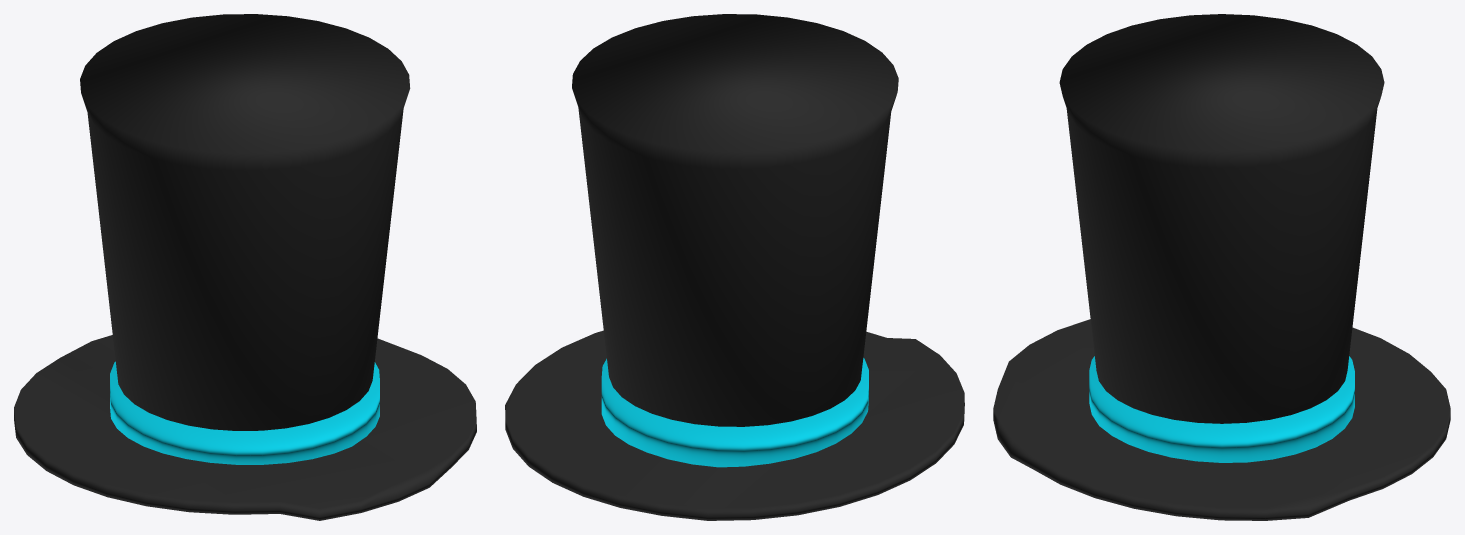
File: tophat3.fbx
3 renders of one model, left to right at view 1: azimuth 30°, elevation 25°; view 2: azimuth 150°, elevation 25°; view 3: azimuth 270°, elevation 25°, orthographic.
Parts seen in each view (by area): view 1: Cylinder.001, Cylinder, Cylinder.002; view 2: Cylinder.001, Cylinder, Cylinder.002; view 3: Cylinder.001, Cylinder, Cylinder.002.
Boxes of the visible parts, x1=… form: Cylinder.001: x1=80, y1=14, x2=410, y2=430; Cylinder: x1=14, y1=335, x2=476, y2=520; Cylinder.002: x1=110, y1=361, x2=379, y2=464; Cylinder.001: x1=572, y1=14, x2=898, y2=426; Cylinder: x1=505, y1=330, x2=964, y2=520; Cylinder.002: x1=601, y1=358, x2=868, y2=467; Cylinder.001: x1=1059, y1=14, x2=1384, y2=423; Cylinder: x1=993, y1=319, x2=1450, y2=520; Cylinder.002: x1=1089, y1=356, x2=1354, y2=462.
Size of the model in its own units: 838 by 697 by 838.
